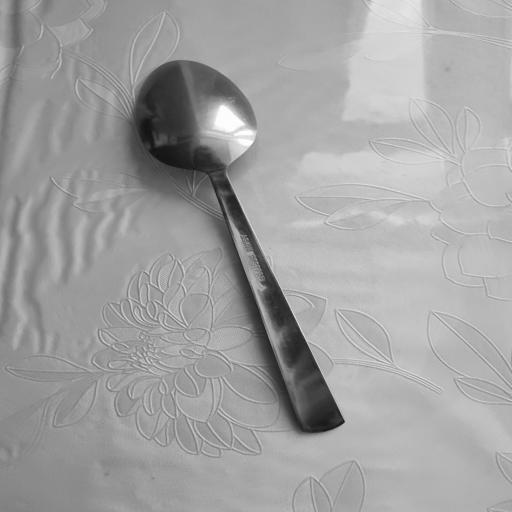spoon: (131, 56, 347, 428)
